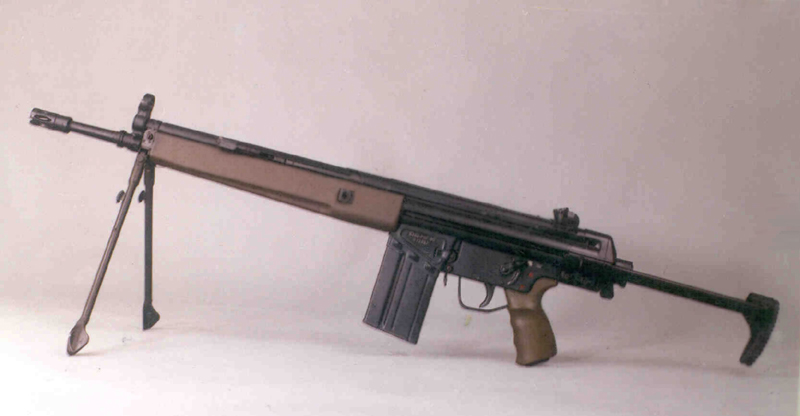rifle: (15, 73, 793, 388)
